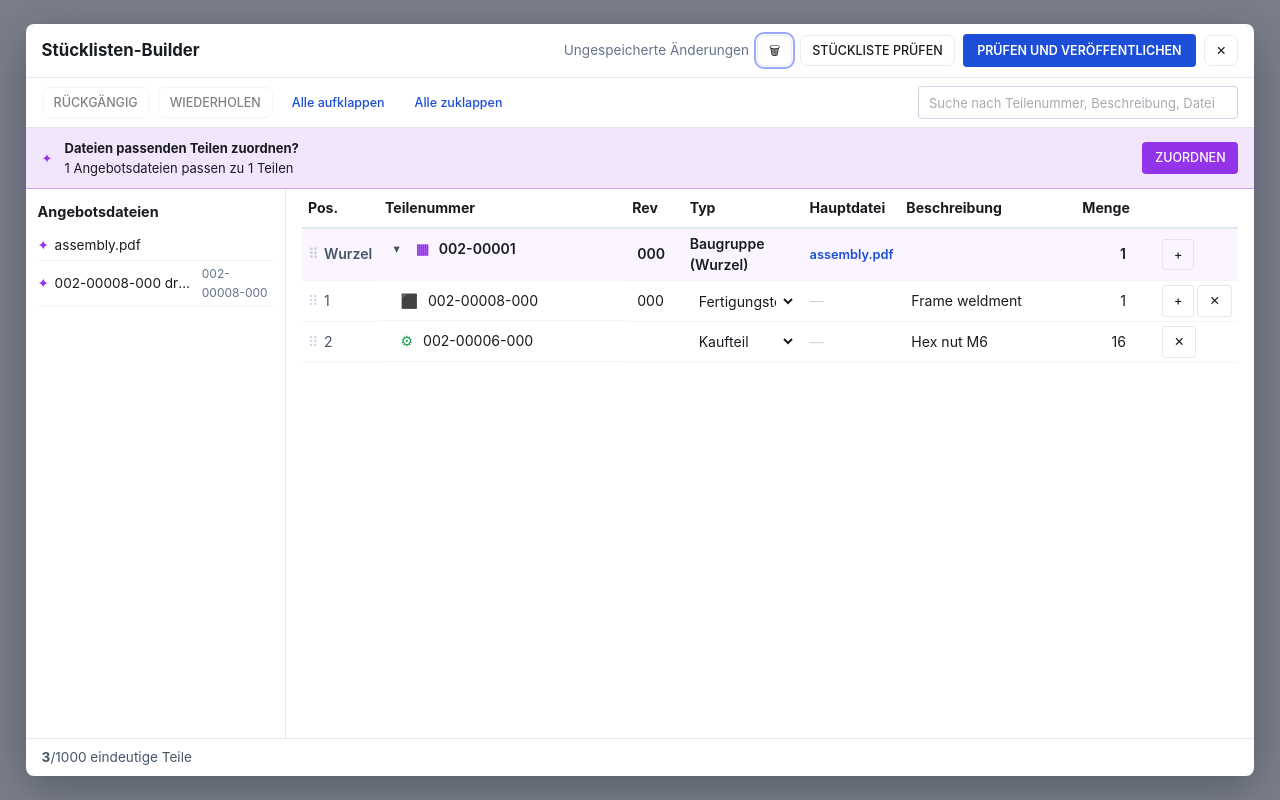
BomBuilderModal › CHECK BOM surfaces errors without publishing
The width and height of the screenshot is (1280, 800).
Expected: the 2nd field showing "002-00008-000" is shown, left=423, top=285, right=619, bottom=316
Click the button "STÜCKLISTE PRÜFEN".
click(878, 50)  # box left=800, top=35, right=955, bottom=66
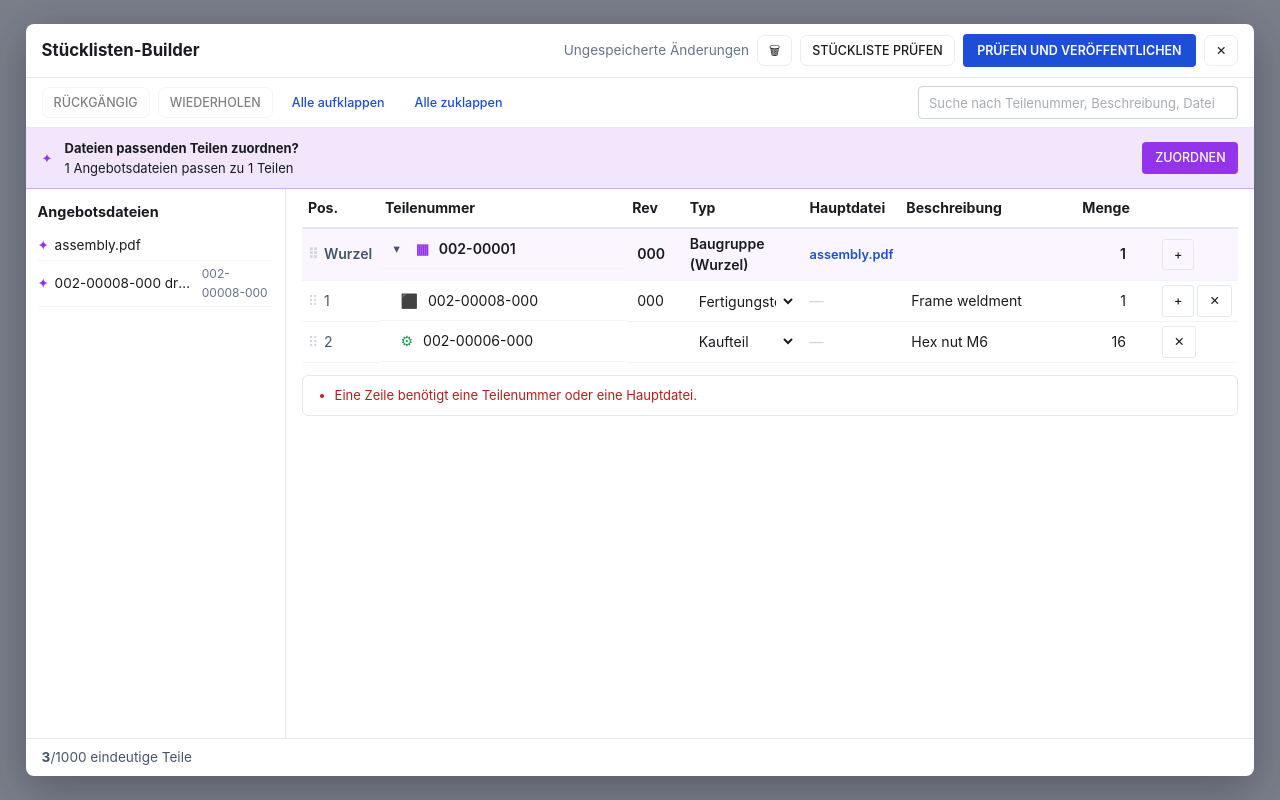
Result: the list item "Eine Zeile benötigt eine Teilenummer oder eine Hauptdatei." is shown at left=335, top=387, right=697, bottom=403
